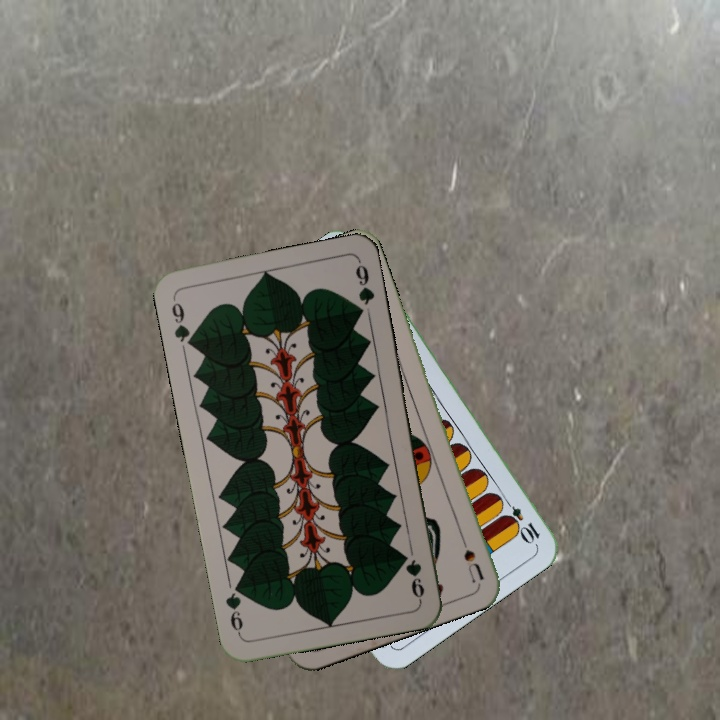E10: (498, 493, 543, 546)
G9: (167, 294, 198, 350), (402, 556, 427, 603)
SU: (454, 526, 487, 585)
